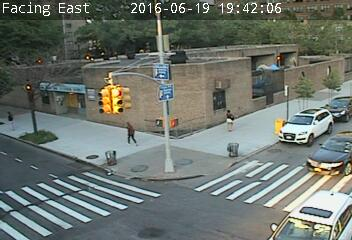neg: (34, 85, 53, 110), (268, 48, 282, 67), (84, 45, 97, 63)
pos: (218, 104, 241, 134), (119, 118, 140, 146), (2, 107, 20, 132)
